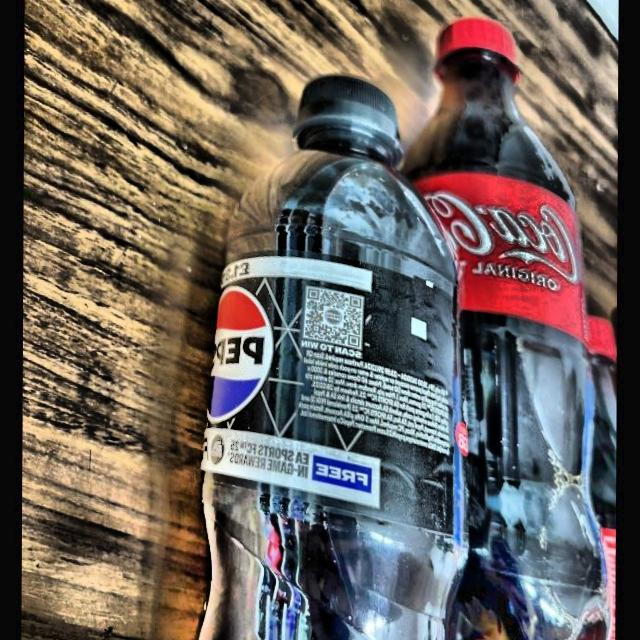coke-bottle: (407, 20, 611, 640), (584, 319, 614, 640)
pepsi-bottle: (208, 71, 472, 640)
